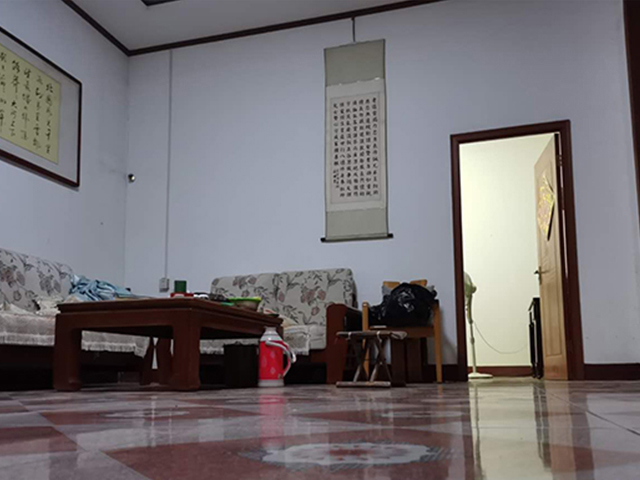sofa: (1, 249, 159, 384), (203, 267, 363, 386)
stool: (359, 277, 445, 385), (334, 328, 412, 390)
table: (51, 295, 285, 394)
